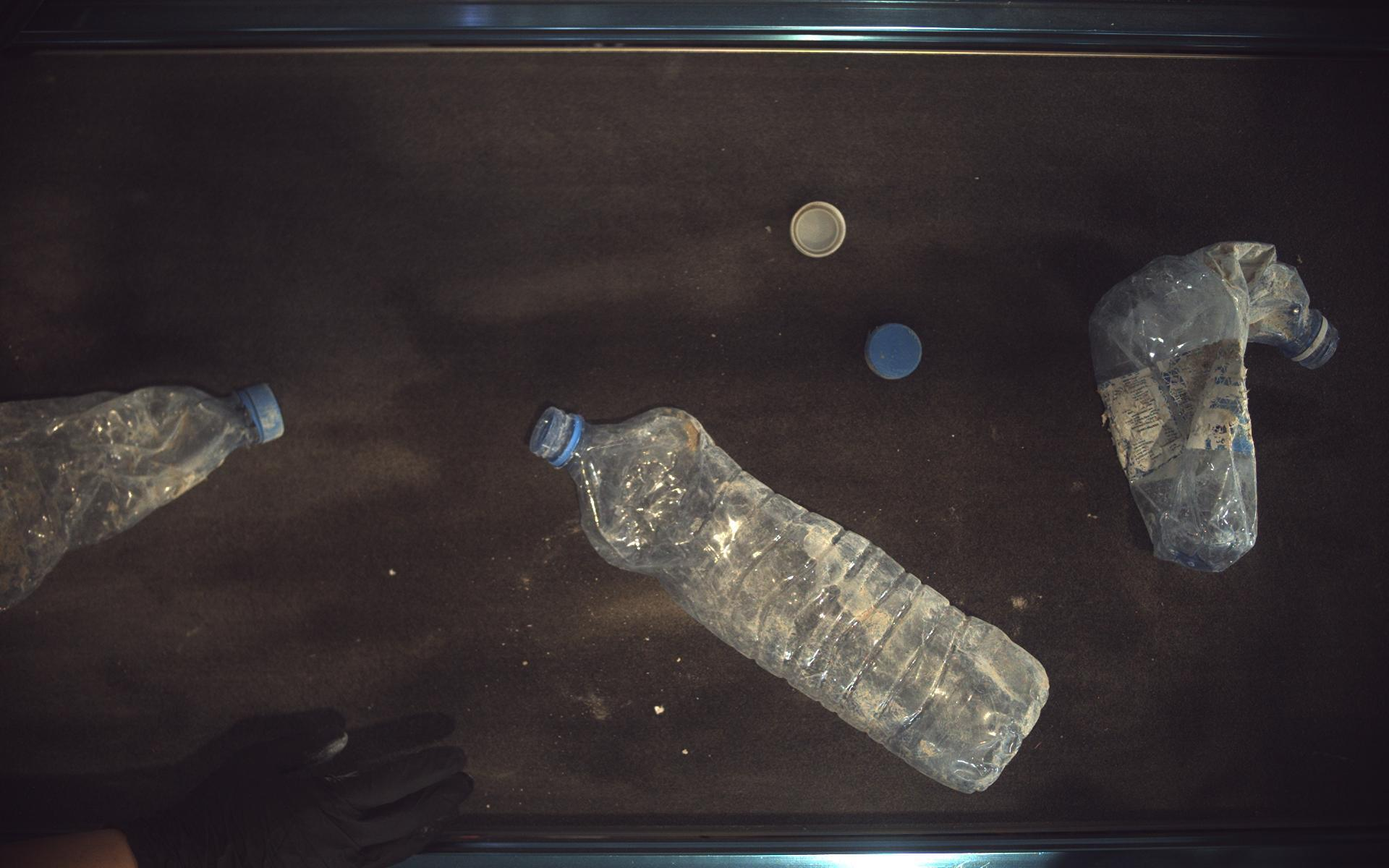general_w: (530, 407, 1051, 794), (1092, 242, 1342, 572), (1, 383, 284, 611), (791, 200, 848, 258), (867, 323, 924, 379)
